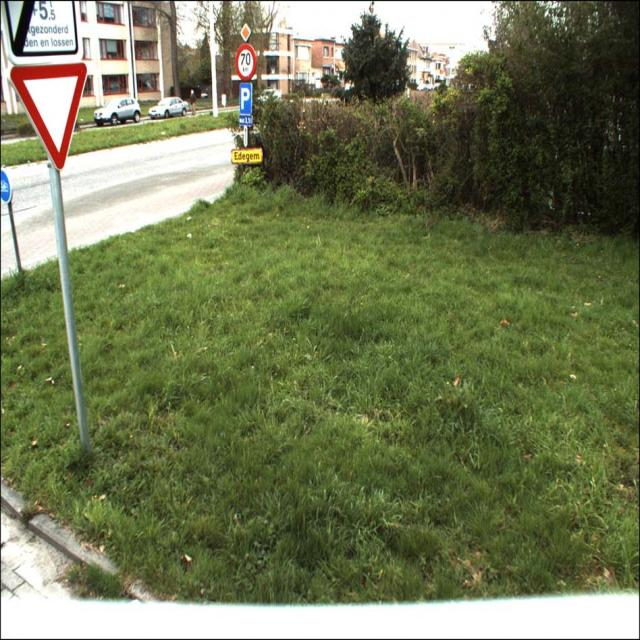park: (238, 82, 252, 114)
